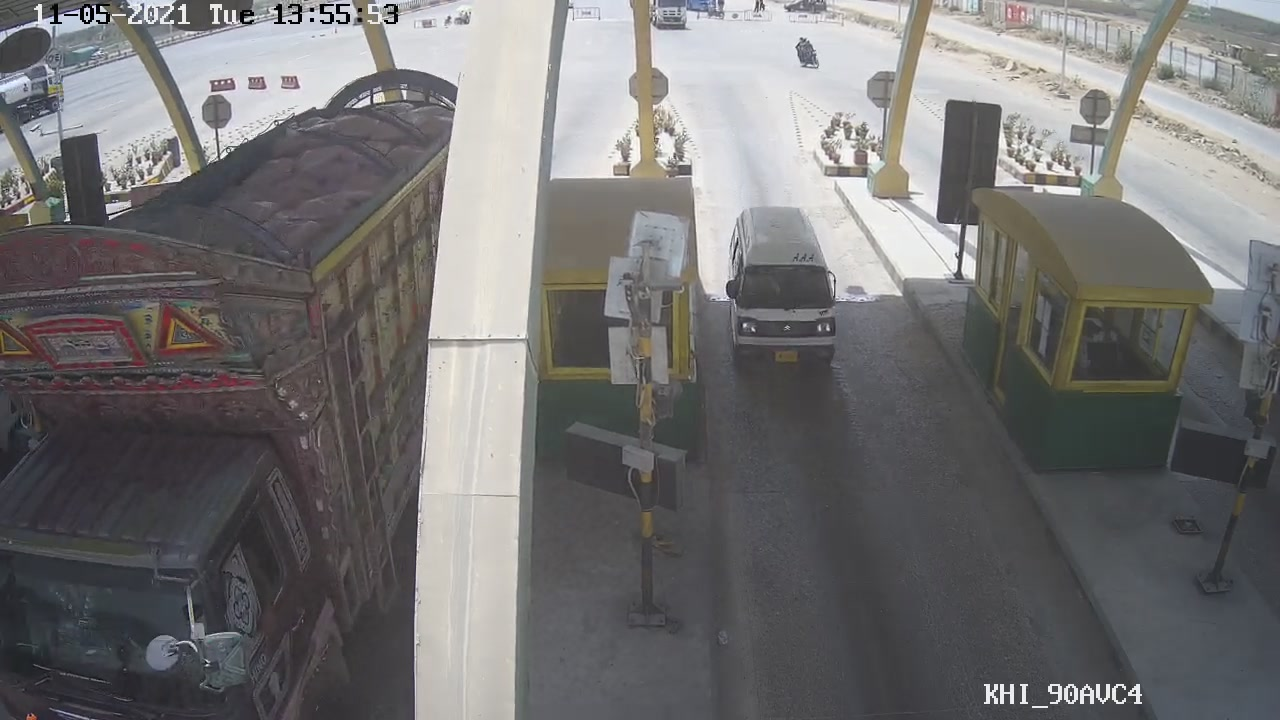F1: (718, 204, 853, 378)
